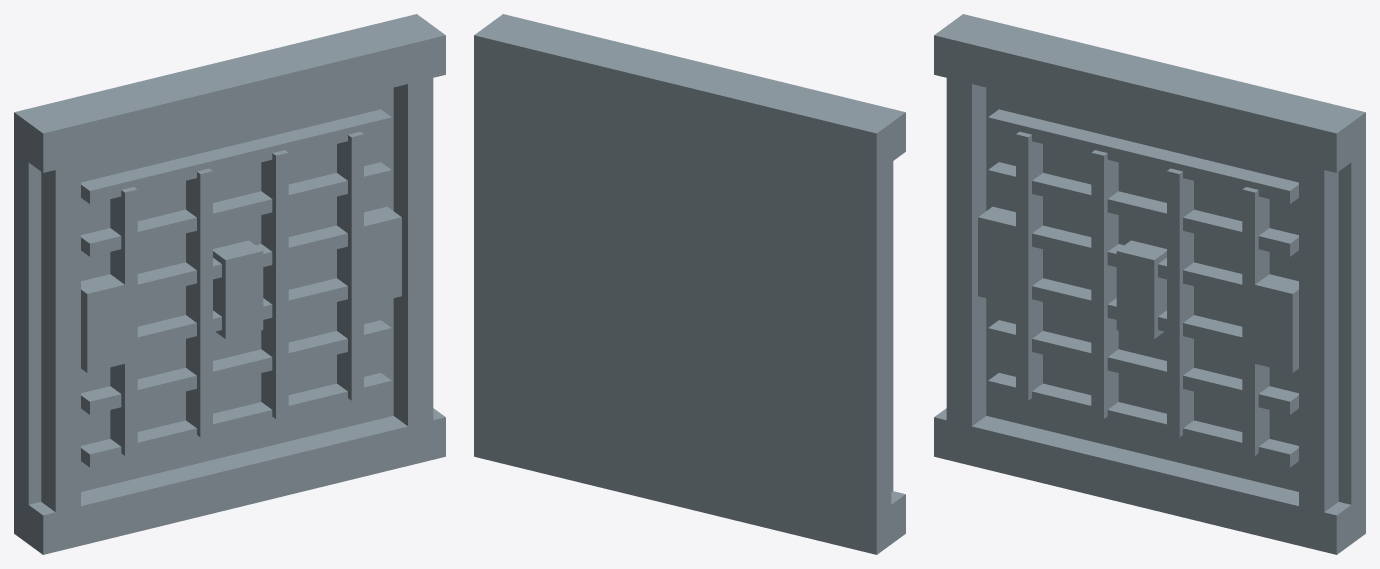
Rendered from wall-dense.glb.
3 views of the same model, side by side, from view 1: azimuth 30°, elevation 25°; view 2: azimuth 150°, elevation 25°; view 3: azimuth 330°, elevation 25° (orthographic).
Visible parts, largest first — view 1: wall-dense; view 2: wall-dense; view 3: wall-dense.
Boxes of the visible parts, x1,y1,x2,y2 form: wall-dense: (14, 14, 445, 554); wall-dense: (474, 14, 905, 554); wall-dense: (934, 14, 1365, 554).
Size of the model in its own units: 2 by 2 by 0.25.
